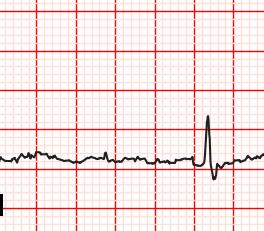ST Depression: (200, 159, 224, 183)
